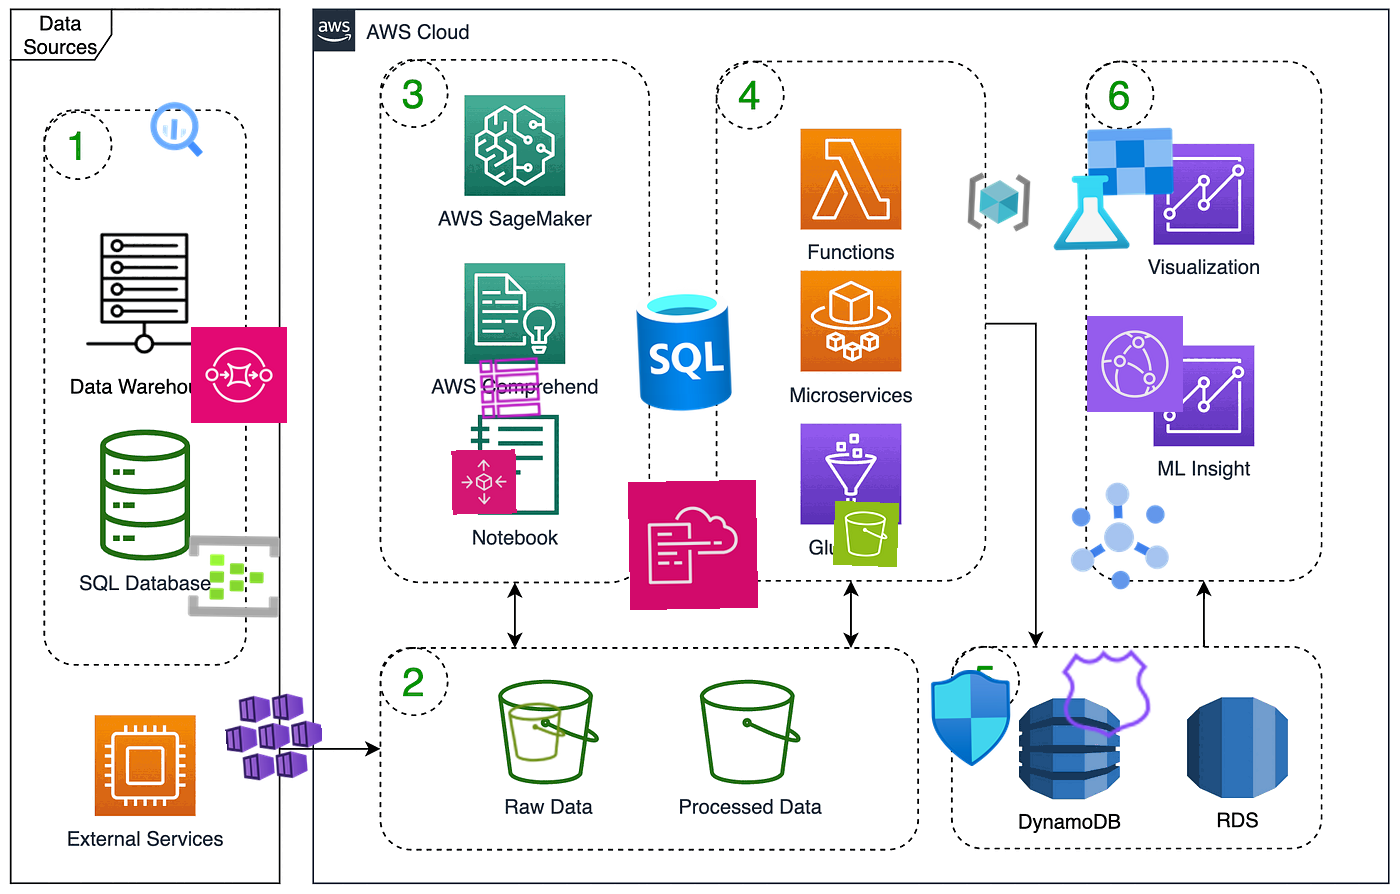aws_amazon_cloudfront: (1086, 315, 1184, 413)
aws_amazon_simple_queue_service: (190, 326, 288, 424)
aws_amazon_simple_storage_service: (832, 500, 900, 568)
aws_auto_scaling: (451, 449, 517, 515)
aws_cloudformation: (627, 479, 759, 611)
aws_dynamodb_table: (476, 354, 544, 423)
aws_route_53_hosted_zone: (1055, 642, 1159, 746)
aws_simple_storage_service_bucket: (503, 698, 571, 766)
azure_event_hubs: (185, 527, 283, 625)
azure_kubernetes_services: (222, 684, 326, 788)
azure_machine_learning_studio_workspaces: (1047, 123, 1179, 255)
azure_network_security_groups: (922, 669, 1020, 767)
azure_resource_groups: (965, 168, 1033, 236)
azure_sql_database: (617, 283, 751, 417)
gcp_bigquery: (143, 95, 211, 163)
gcp_pubsub: (1052, 469, 1186, 603)
